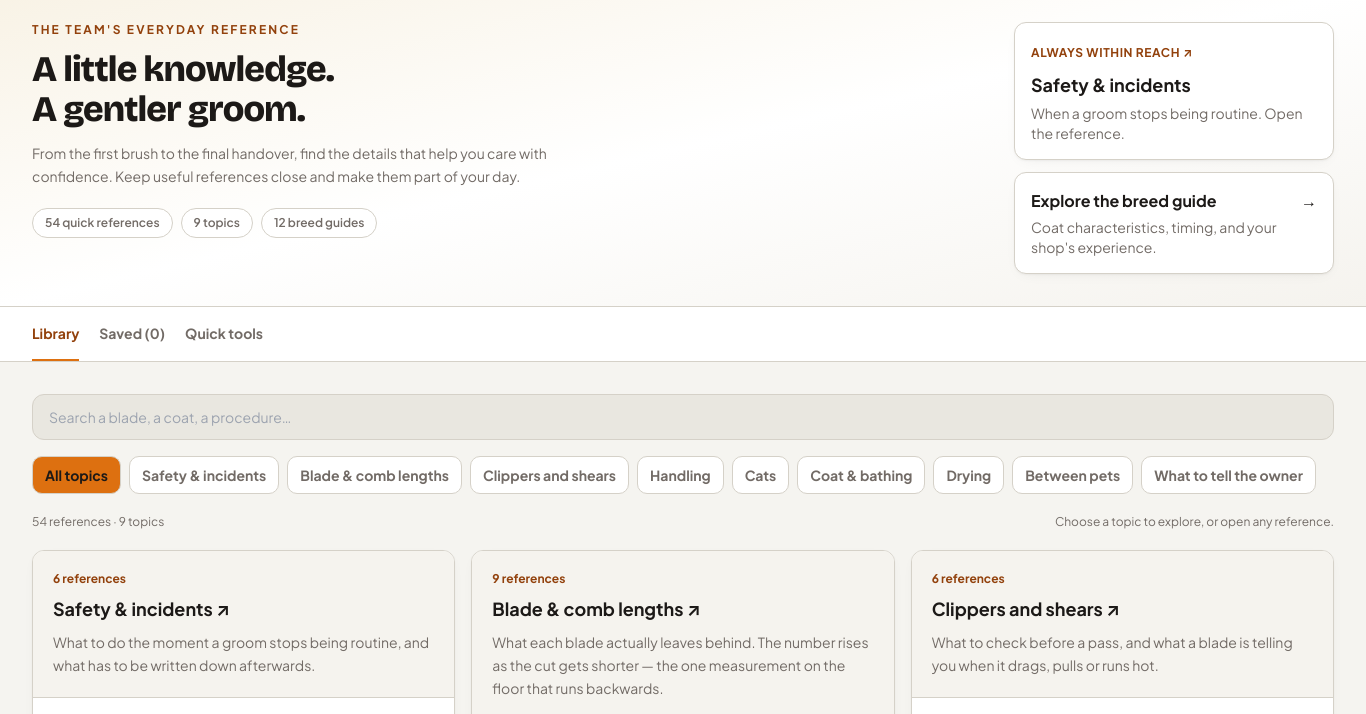
Test: resource hub › filters references and opens the matching entry in a reader
The image size is (1366, 714).
Type "#4f" into the search field at x=683, y=417, box [32,394,1334,440]
(page scrolled)
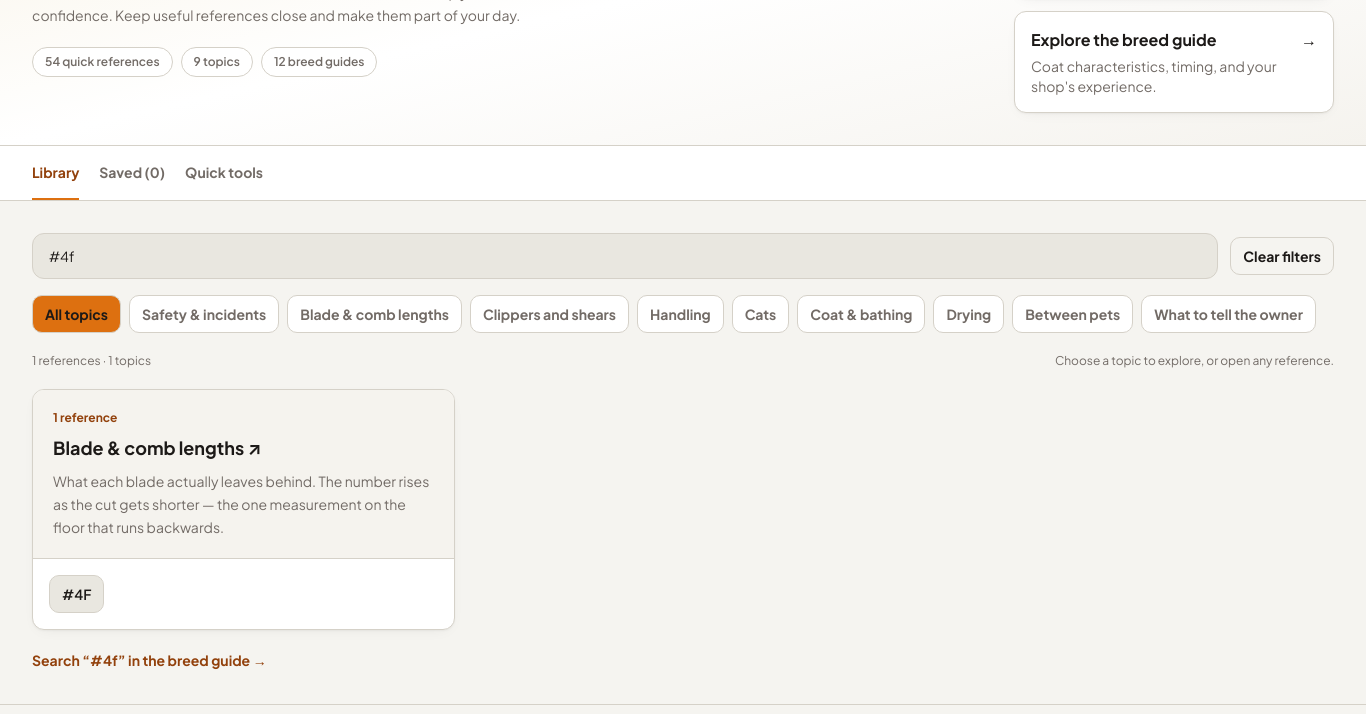
Now the text "1 references · 1 topics" is shown, box [32,353,151,369]
Click the button "#4F" at x=77, y=594, box [49,575,104,613]
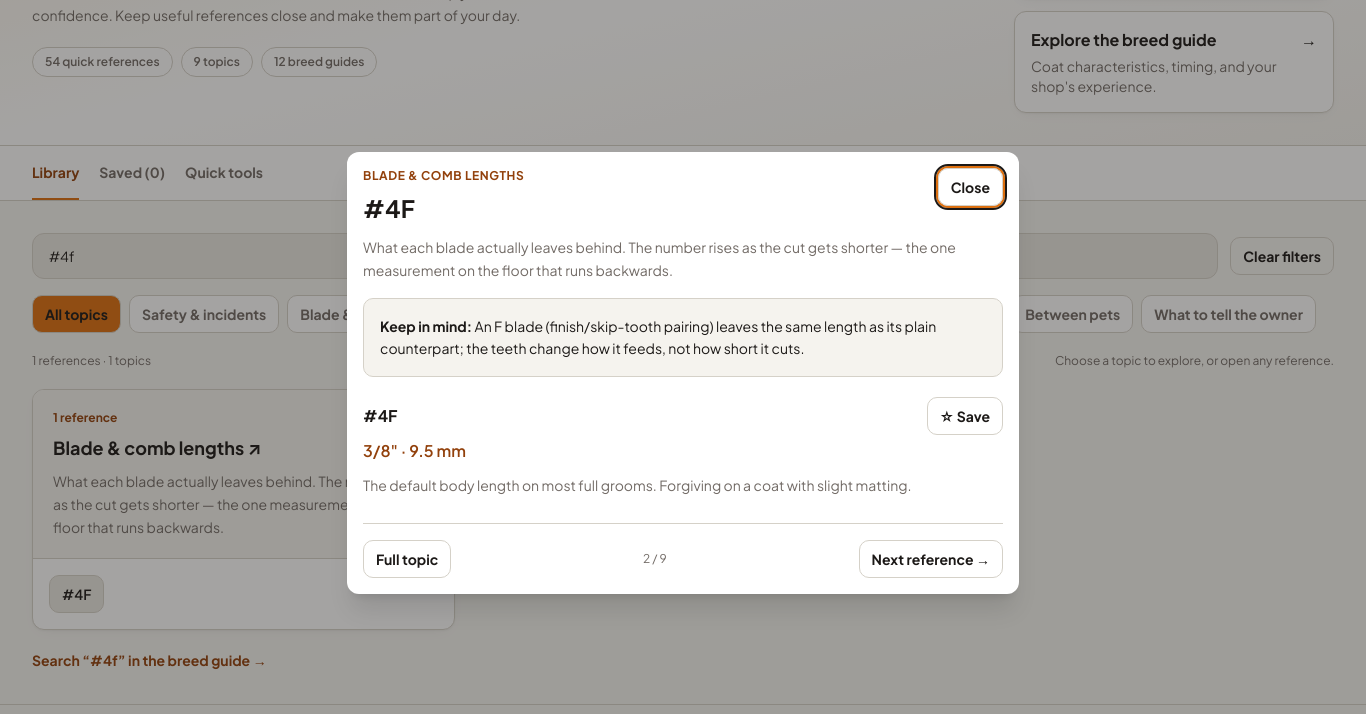
Now the 1st heading "#4F" is shown, box [363,193,415,223]
Click the button "Next reference →" at x=931, y=559, box [859,540,1003,578]
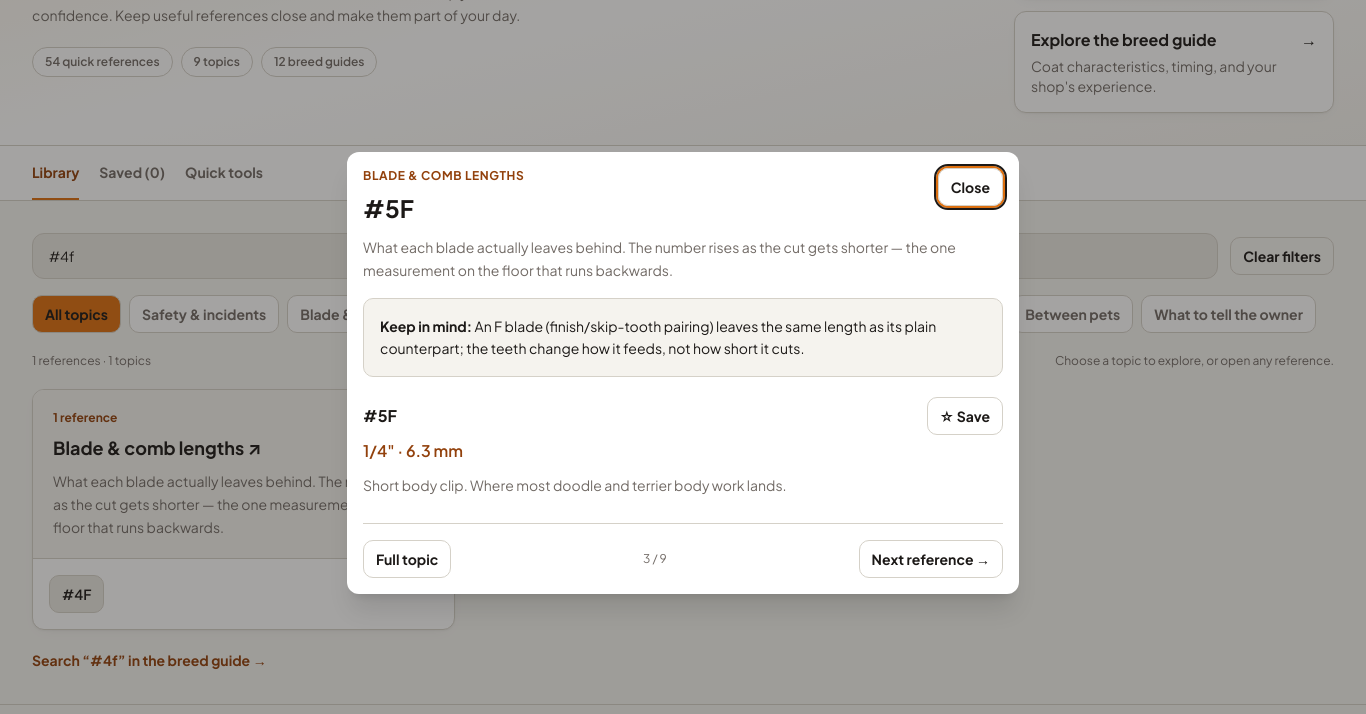
Now the 1st heading "#5F" is shown, box [363,193,414,223]
Click the button "Close" at x=970, y=187, box [938,168,1003,206]
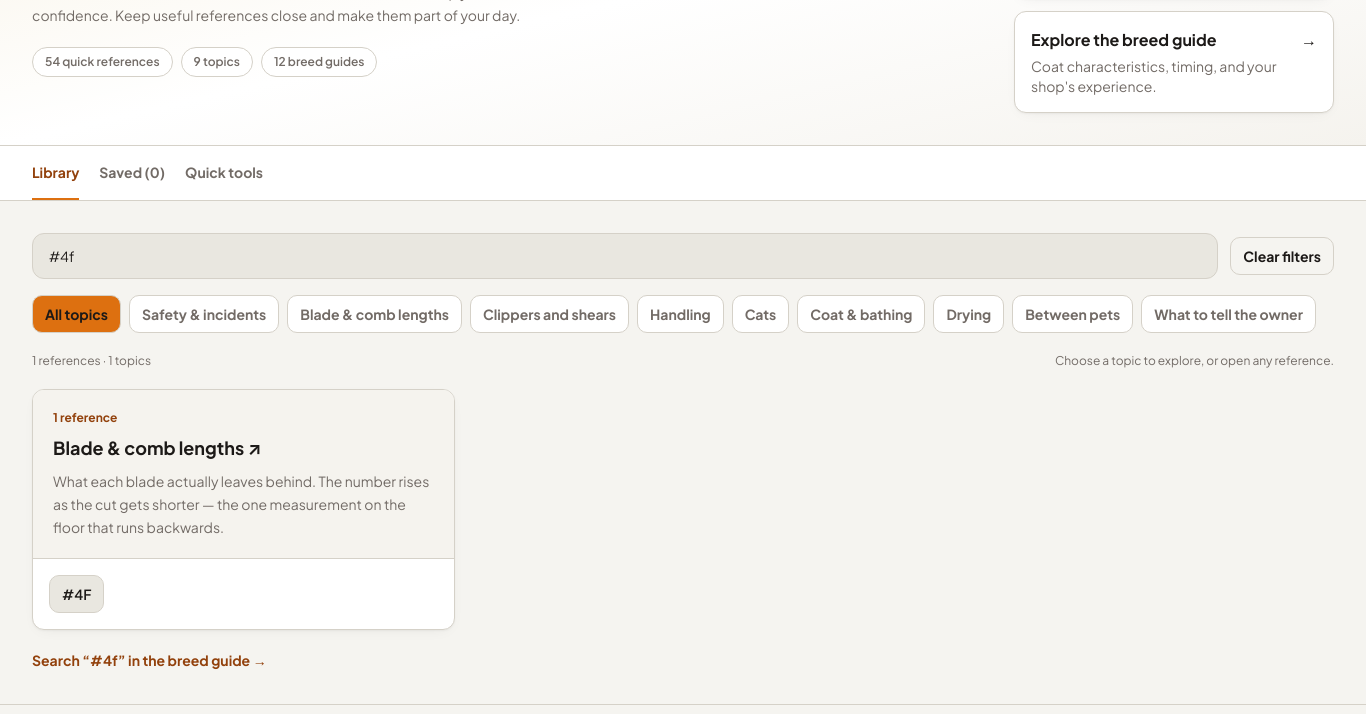
Now the dialog is gone
